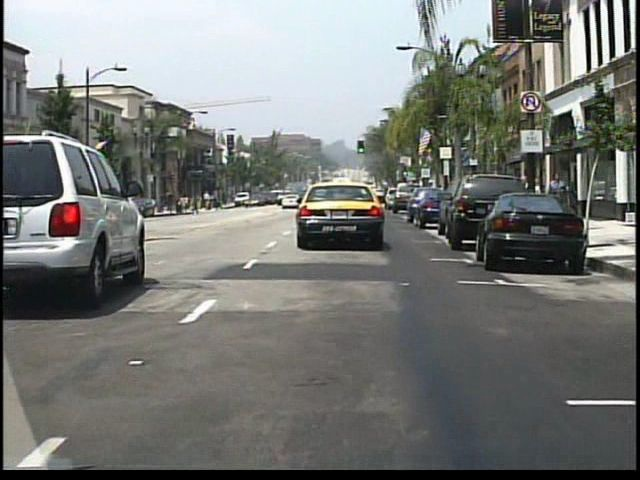person: (546, 169, 568, 226), (213, 193, 220, 211)
